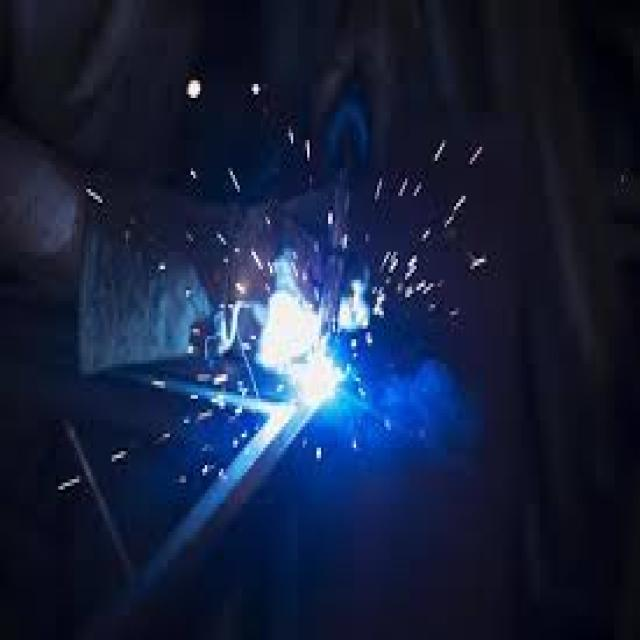welding: (291, 344, 341, 405)
